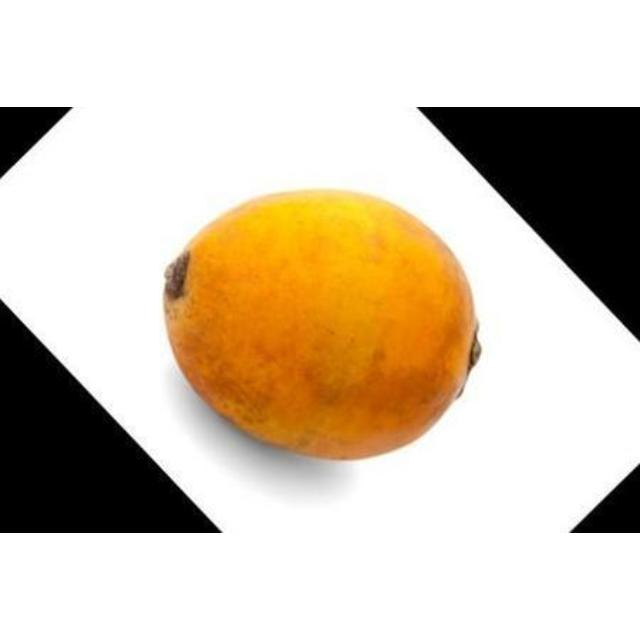good: (161, 188, 481, 463)
